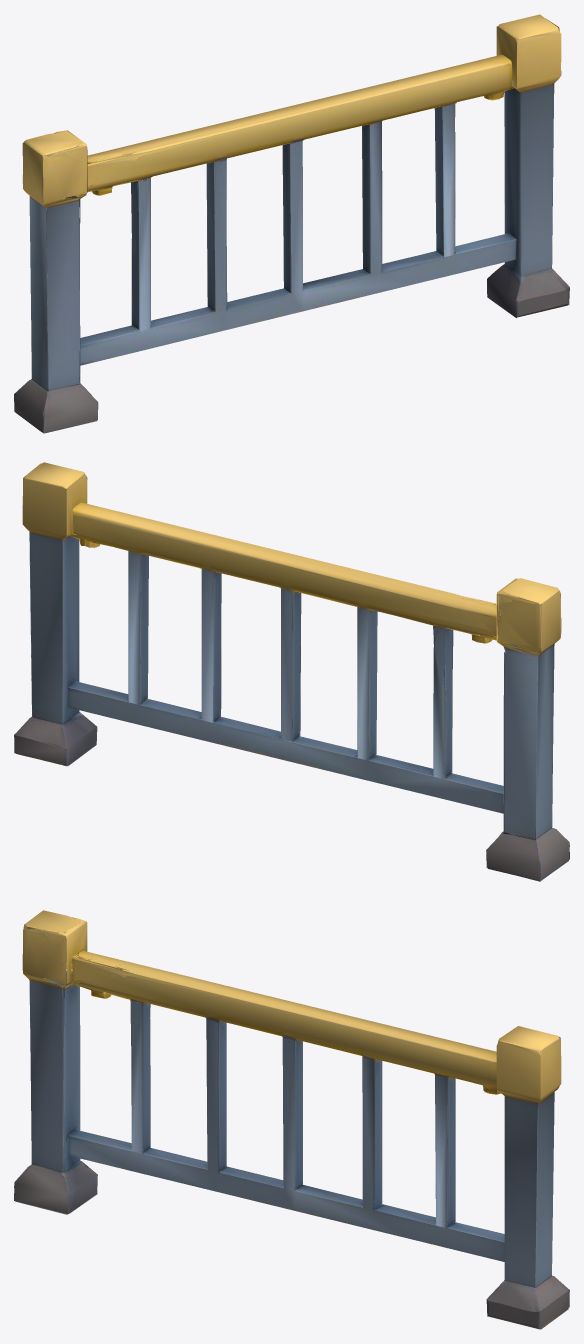
Rendered from guardrail.glb.
3 views of the same model, one above another, from view 1: azimuth 30°, elevation 25°; view 2: azimuth 150°, elevation 25°; view 3: azimuth 330°, elevation 25° (orthographic).
Visible parts, largest first — view 1: Industrial_guardrail; view 2: Industrial_guardrail; view 3: Industrial_guardrail.
Part boxes in pixels (x1,y1,x2,y2): Industrial_guardrail: (14,14,569,433); Industrial_guardrail: (14,462,569,881); Industrial_guardrail: (14,910,569,1329).
Size of the model in its own units: 2 by 1 by 0.2024.
1 material, 1 textured.
